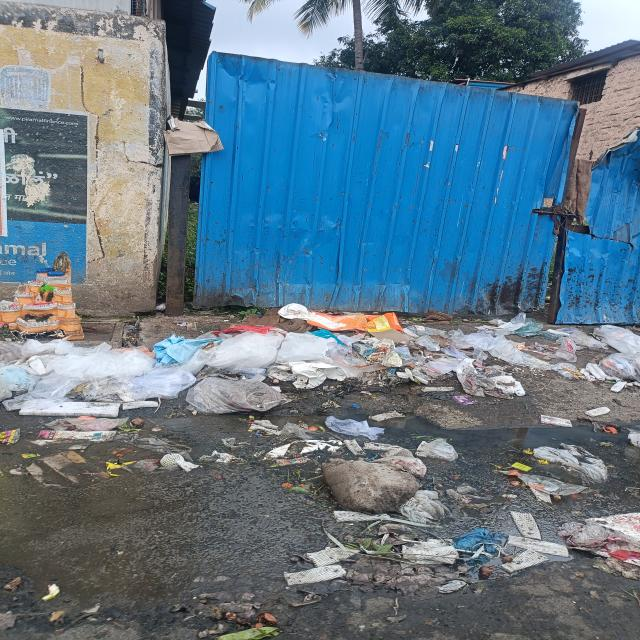garbage: (253, 434, 640, 615), (0, 312, 637, 418)
